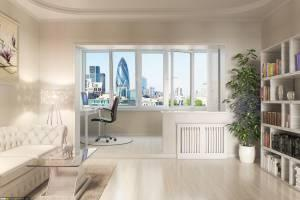window: (75, 43, 210, 109)
